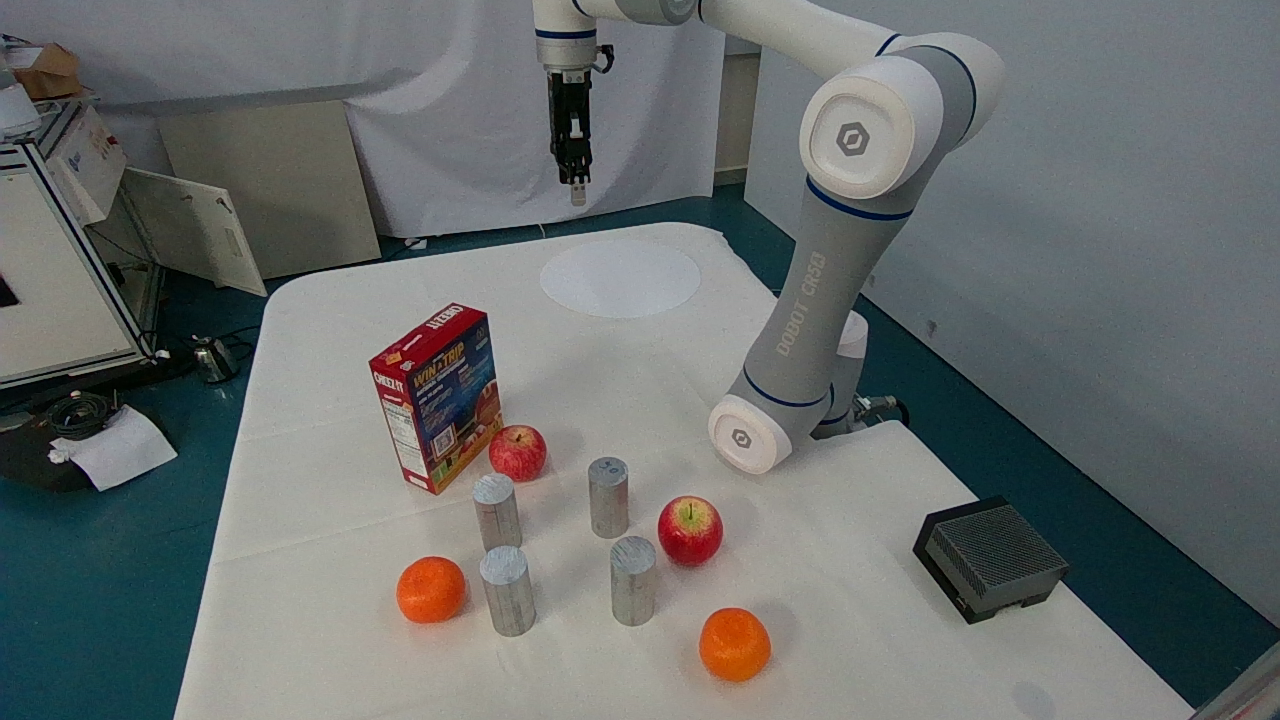apple: (390, 550, 470, 631), (657, 491, 727, 565), (490, 422, 554, 484)
metal rod: (478, 544, 539, 642), (585, 447, 641, 540), (609, 532, 661, 628), (471, 475, 531, 548)
orange: (698, 606, 774, 685)
